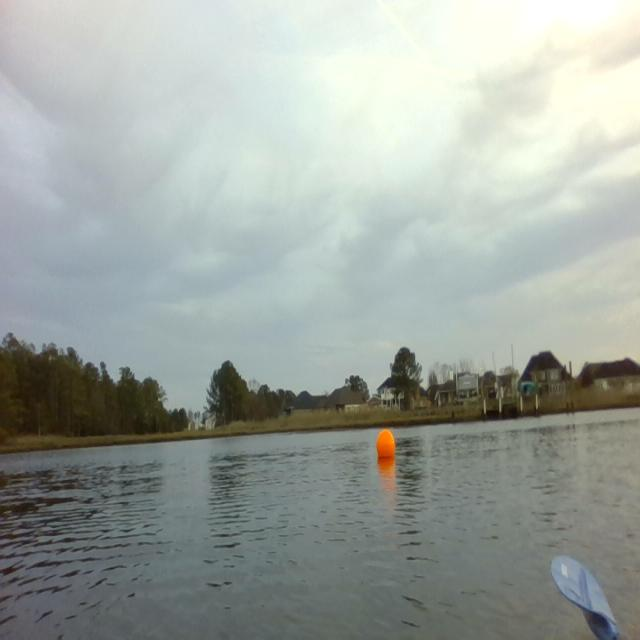Buoy: (374, 426, 396, 461)
